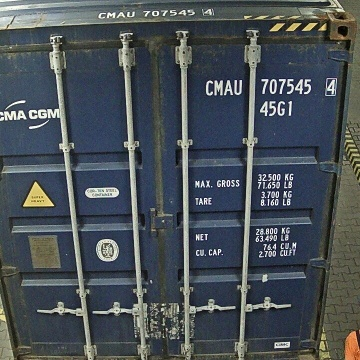serial_id: (205, 78, 336, 95)
